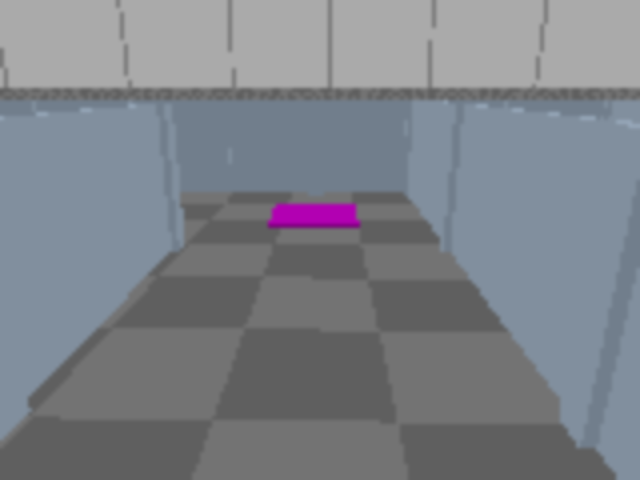goal_zone: (267, 203, 359, 227)
